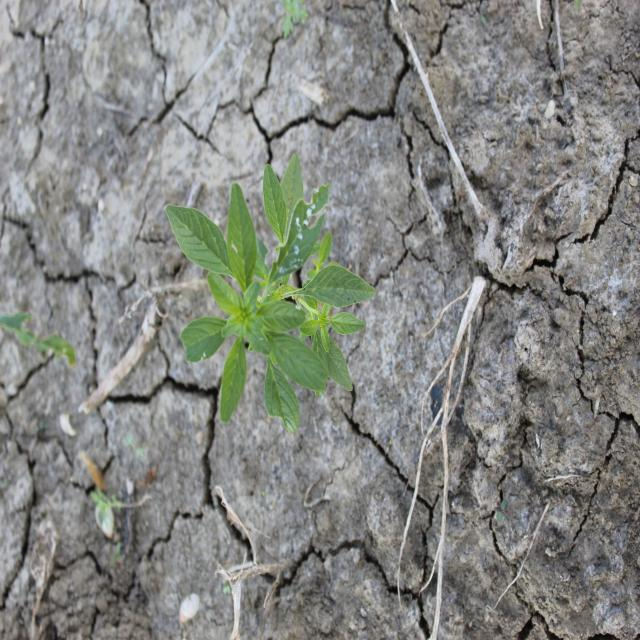Waterhemp: (164, 148, 378, 438)
